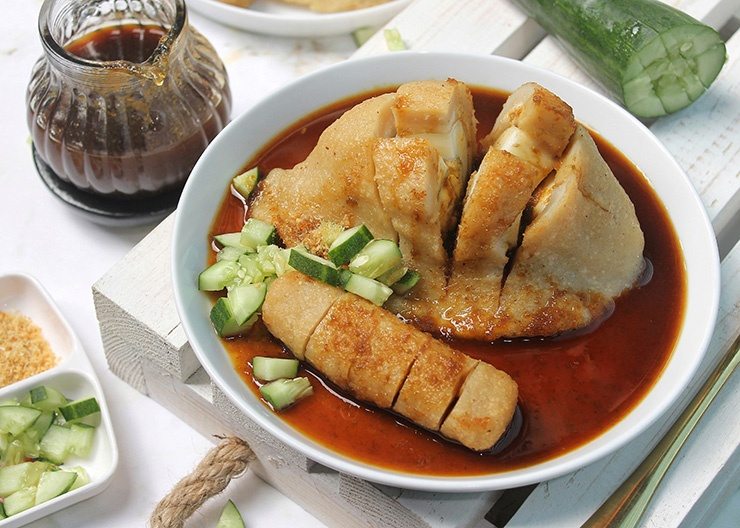pempek: (200, 66, 645, 451)
